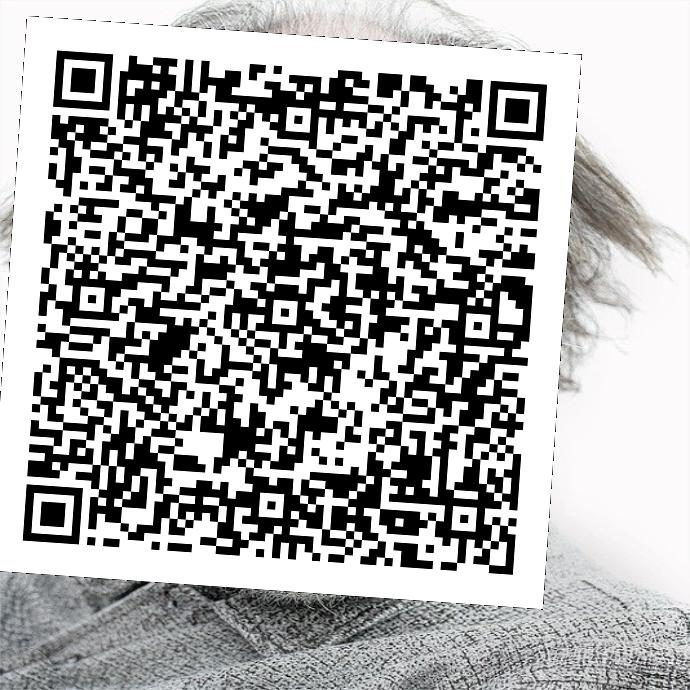qr_code: (0, 22, 581, 603)
